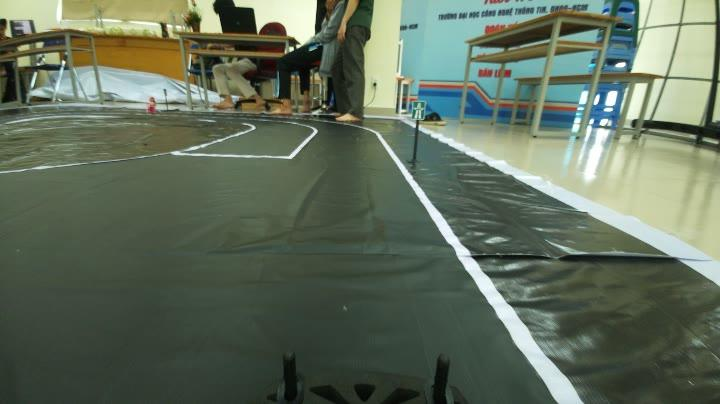highway_entry: (407, 96, 428, 125)
